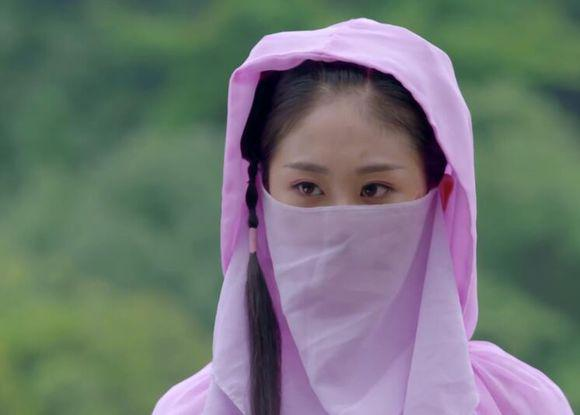OK: (268, 155, 415, 302)
